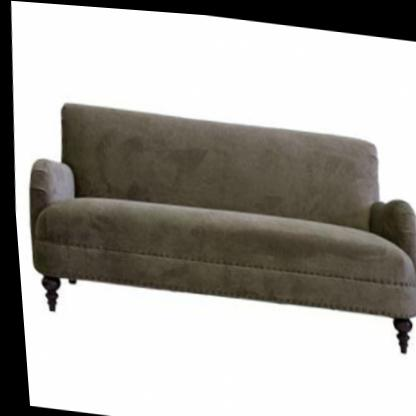Sofa: (15, 97, 416, 348)
